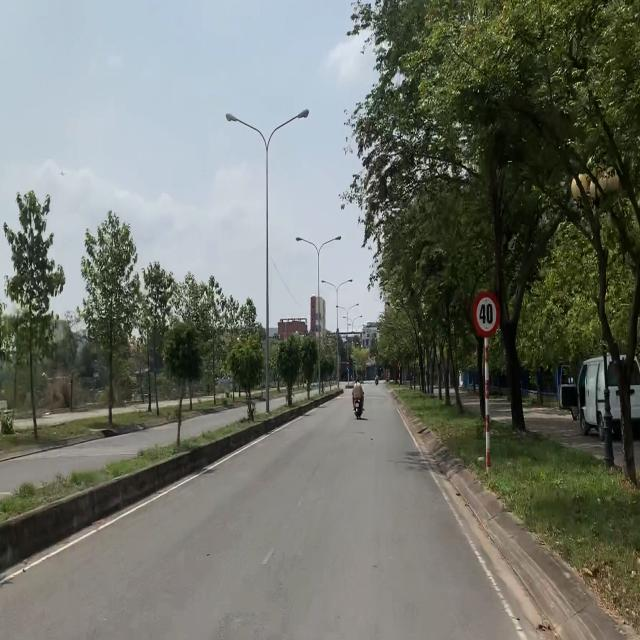Cam nguoc chieu: (346, 360, 350, 366)
Hieu lenh: (346, 366, 350, 372)
Toc do toi da: (472, 289, 500, 337)
